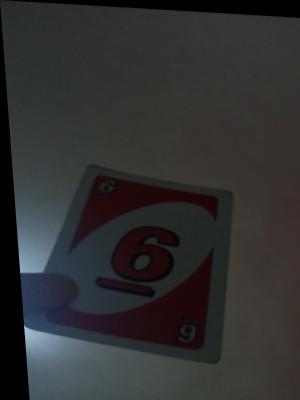num_6: (77, 210, 190, 305)
